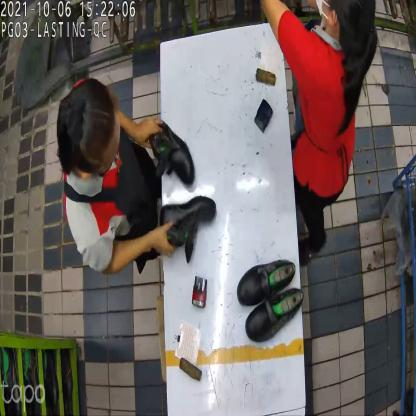shoes: (236, 256, 304, 344), (162, 198, 217, 264)
stamp: (253, 98, 275, 133), (190, 275, 210, 311)
